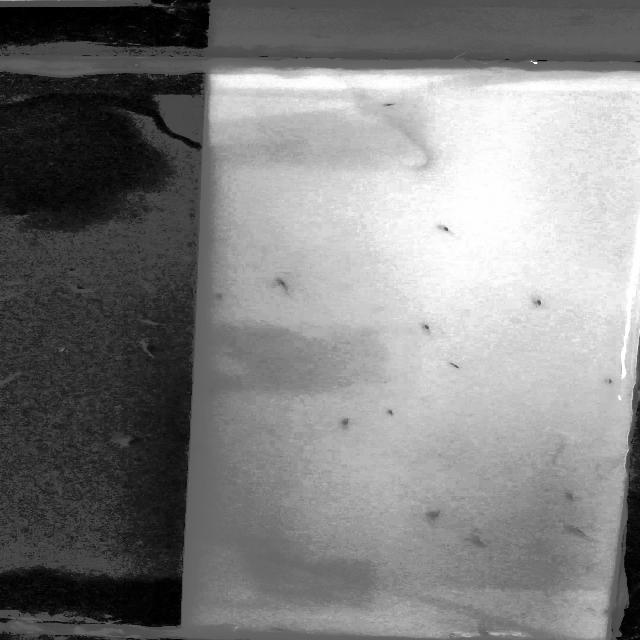shrimp: (428, 220, 481, 239), (544, 483, 583, 506), (406, 316, 451, 334), (435, 356, 482, 372), (520, 292, 557, 312), (555, 522, 593, 540), (266, 274, 292, 297), (462, 536, 494, 553), (337, 412, 366, 430), (375, 404, 401, 422), (425, 509, 441, 523), (198, 386, 222, 394), (270, 627, 290, 634)
